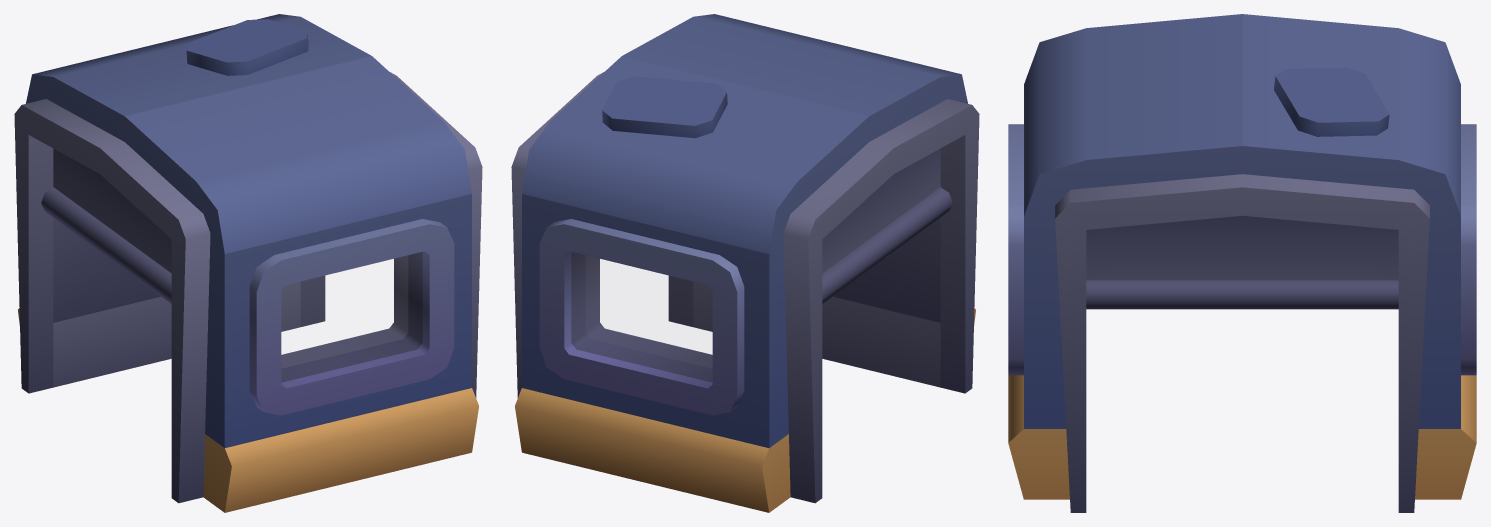
Rendered from machine-window.glb.
3 renders of one model, left to right at view 1: azimuth 30°, elevation 25°; view 2: azimuth 150°, elevation 25°; view 3: azimuth 270°, elevation 25°, orthographic. The views are drawn at different scales.
Visible parts, largest first — view 1: machine-window; view 2: machine-window; view 3: machine-window.
Part boxes in pixels (<box>): machine-window: <box>14,14,482,512</box>; machine-window: <box>511,14,979,512</box>; machine-window: <box>1008,14,1476,512</box>.
Size of the model in its own units: 1.2 by 1.29 by 1.5.
